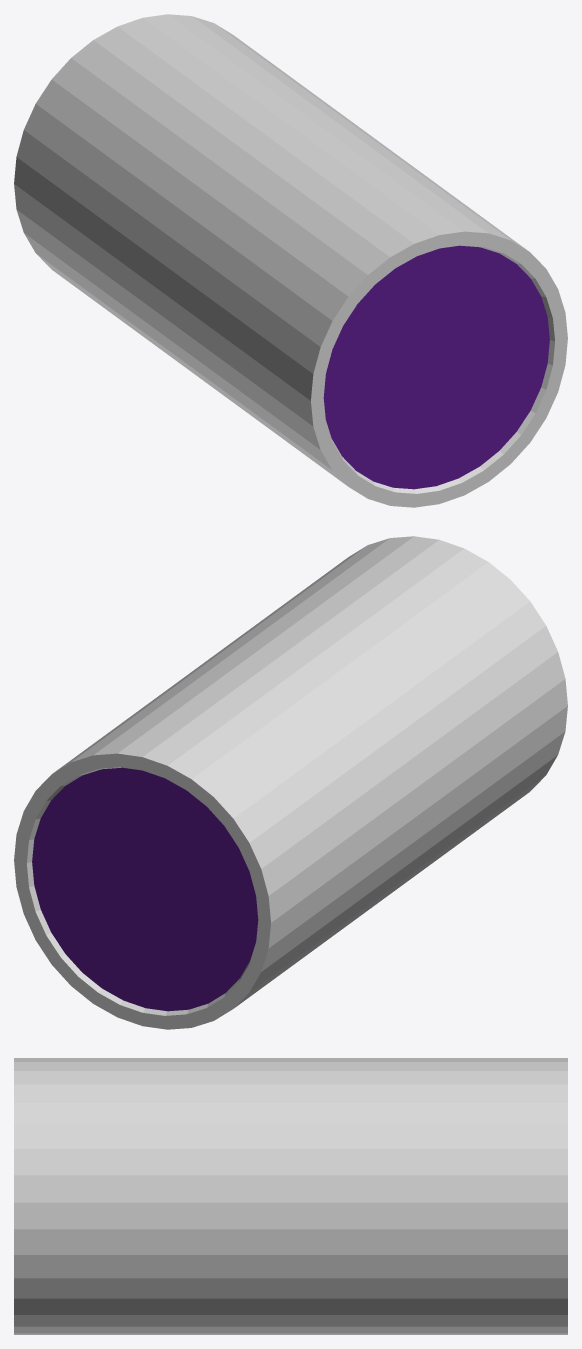
File: Wood.fbx
The picture shows the model from 3 angles, top to bottom: view 1: azimuth 30°, elevation 25°; view 2: azimuth 150°, elevation 25°; view 3: azimuth 270°, elevation 25°; orthographic projection. The views are drawn at different scales.
Visible parts, largest first — view 1: Wood; view 2: Wood; view 3: Wood.
Part boxes in pixels (x1=…): Wood: x1=14, y1=14, x2=567, y2=507; Wood: x1=14, y1=536, x2=567, y2=1029; Wood: x1=14, y1=1058, x2=567, y2=1334.
Size of the model in its own units: 100 by 100 by 200.
